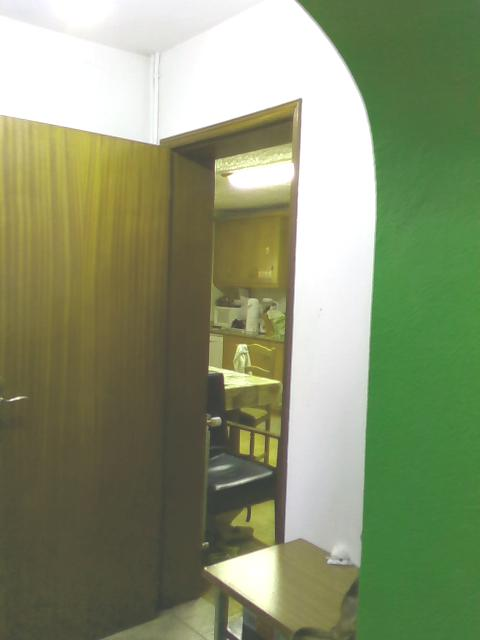open_door: (160, 98, 302, 539)
